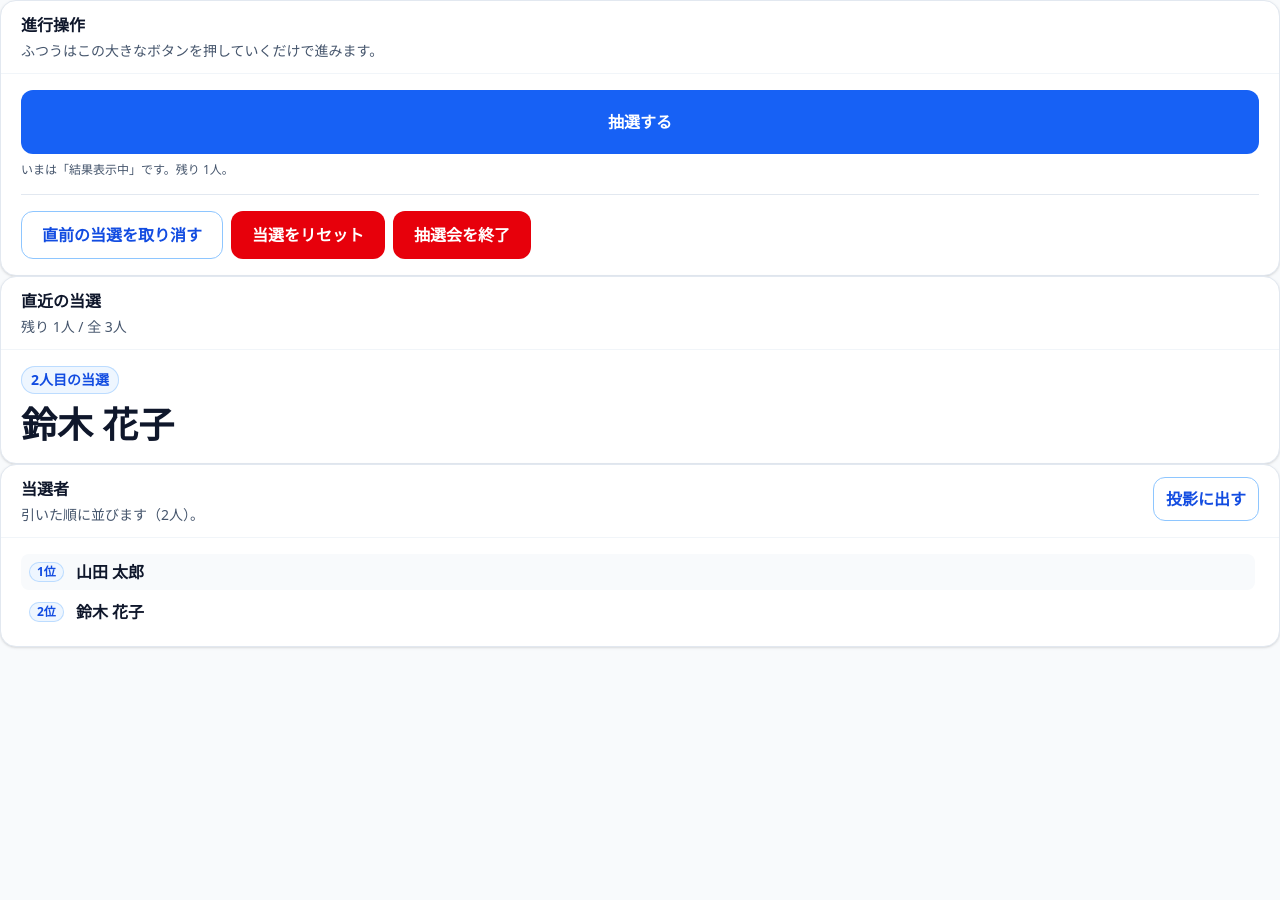
Scenario: 司会画面の抽選操作 › やめると何も実行しない
Click the button "当選をリセット" at [308, 235], box x1=231 y1=211 x2=385 y2=259
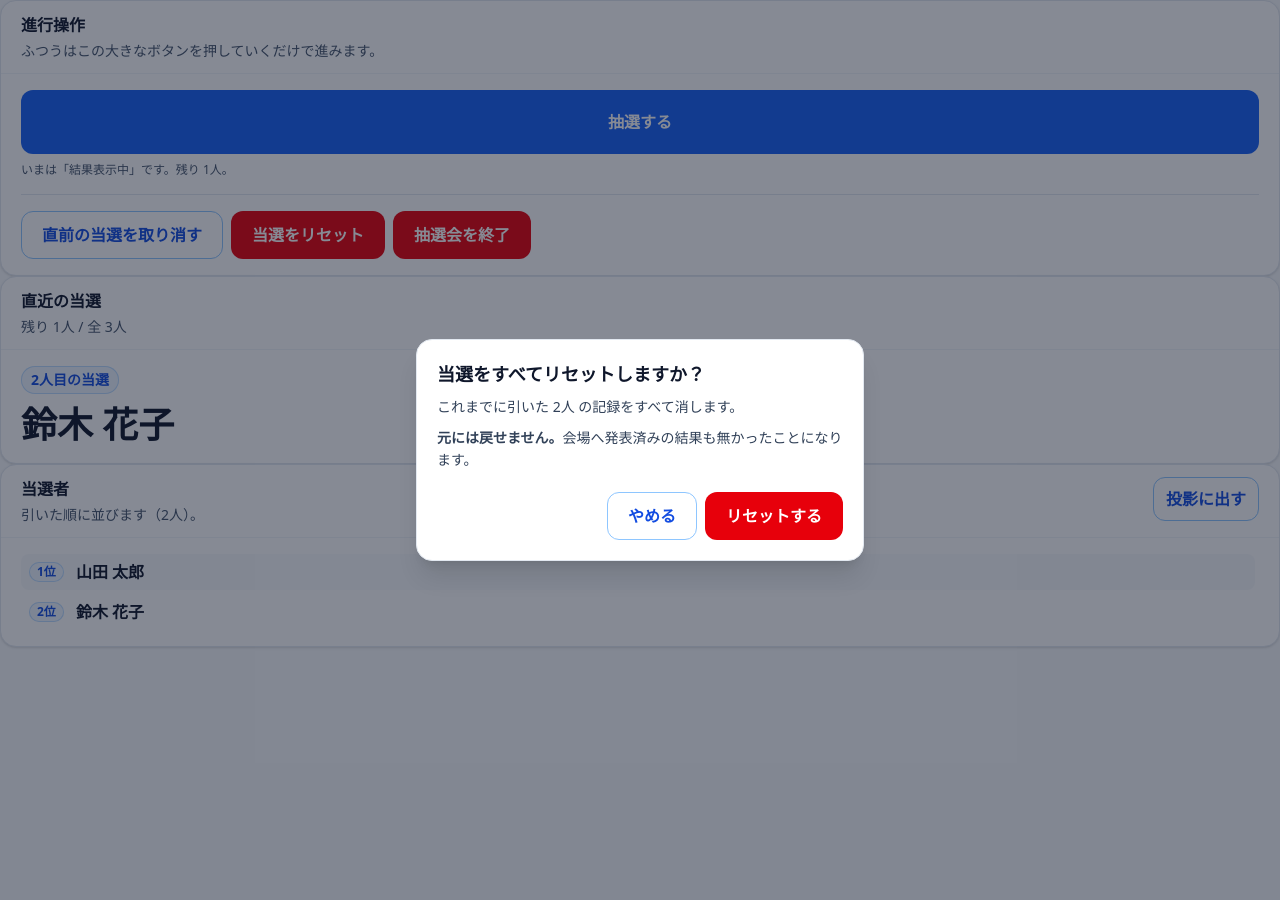
Click the button "やめる" at [652, 516], box x1=607 y1=492 x2=697 y2=540
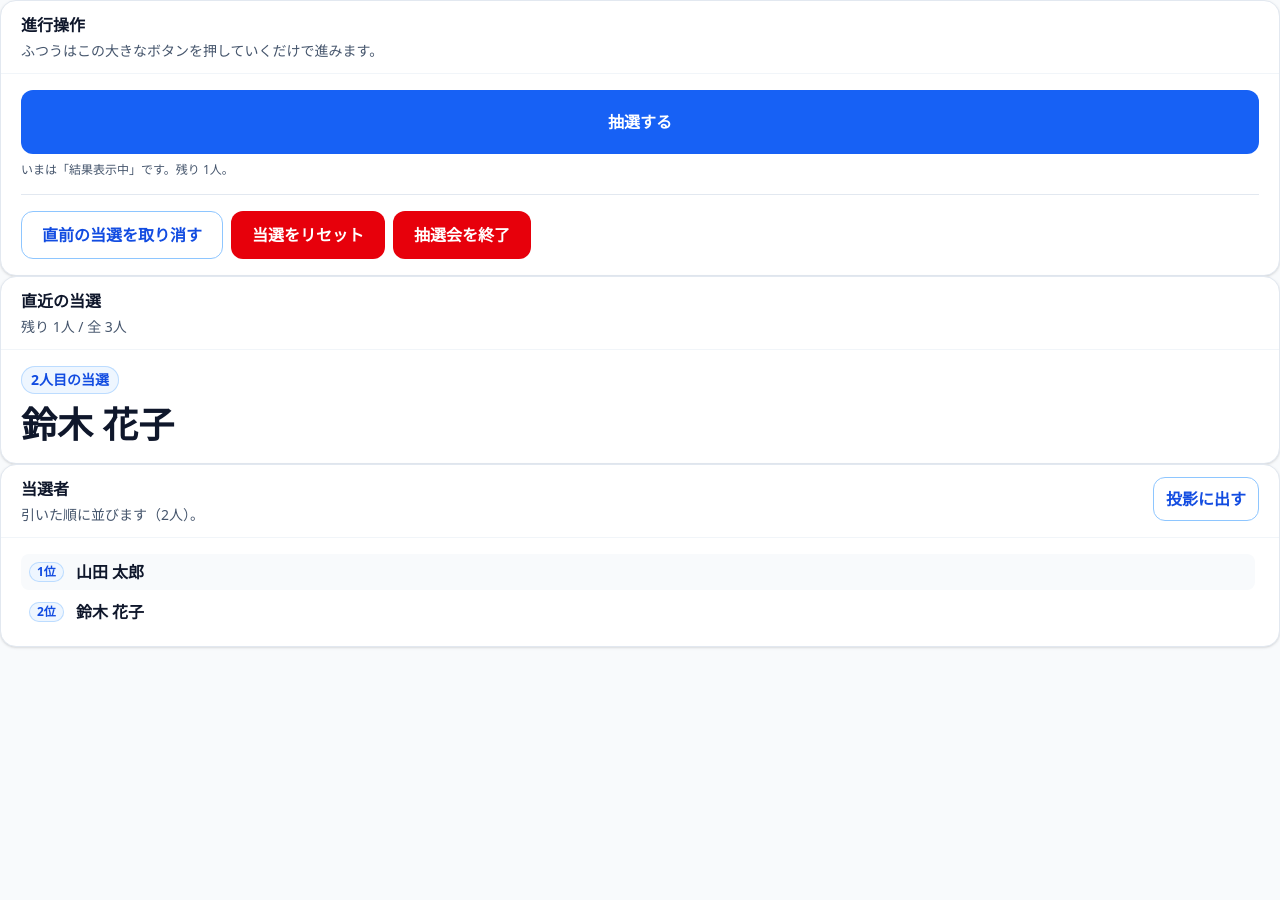
Now the dialog is gone
